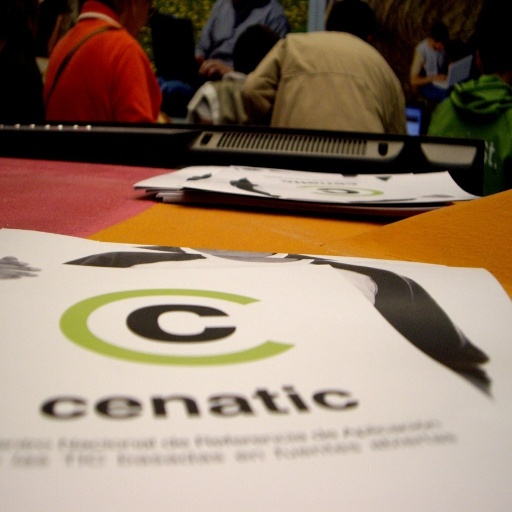hand: (200, 60, 232, 76), (428, 73, 446, 80)
